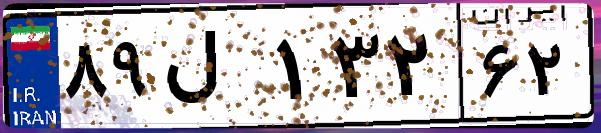1: (270, 28, 330, 110)
2: (385, 28, 445, 110), (525, 38, 570, 115)
3: (330, 28, 385, 110)
6: (475, 38, 525, 113)
8: (57, 26, 110, 100)
9: (110, 28, 158, 98)
ل: (158, 20, 270, 120)
